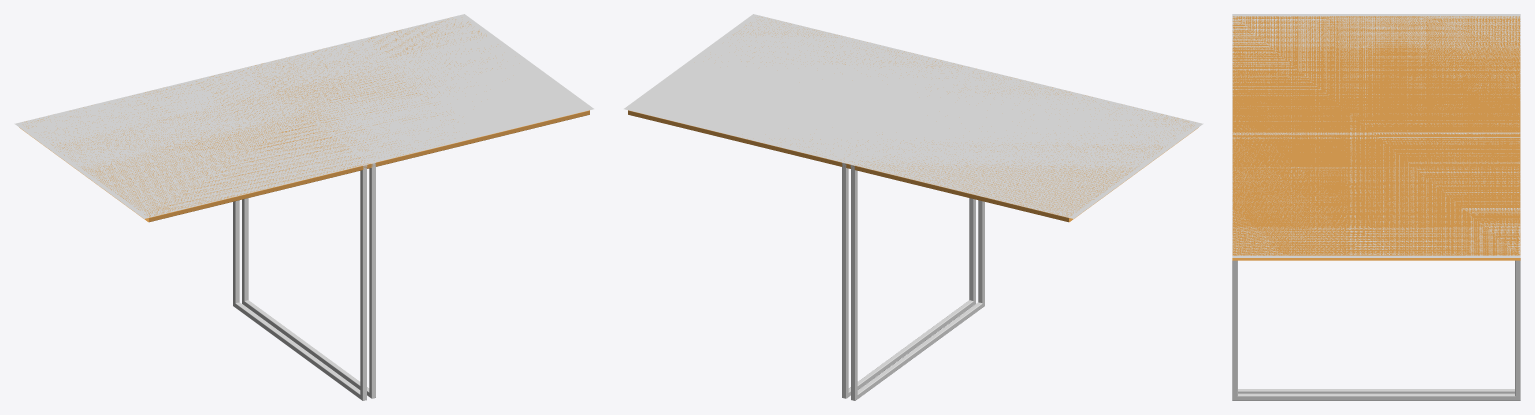
Rendered from iron-frame-table.glb.
The picture shows the model from 3 angles, left to right: view 1: azimuth 30°, elevation 25°; view 2: azimuth 150°, elevation 25°; view 3: azimuth 270°, elevation 25°; orthographic projection. The views are drawn at different scales.
Parts seen in each view (by area): view 1: __TOP__Plane, __X_BOARD__Cube.001, __X_FRAME__Cube.001; view 2: __TOP__Plane, __X_FRAME__Cube.001, __X_BOARD__Cube.001; view 3: __X_BOARD__Cube.001, __TOP__Plane, __X_FRAME__Cube.001.
Part boxes in pixels (x1=…): __TOP__Plane: x1=14, y1=14, x2=593, y2=218; __X_BOARD__Cube.001: x1=19, y1=19, x2=589, y2=222; __X_FRAME__Cube.001: x1=233, y1=68, x2=375, y2=400; __TOP__Plane: x1=624, y1=14, x2=1203, y2=218; __X_FRAME__Cube.001: x1=842, y1=68, x2=984, y2=400; __X_BOARD__Cube.001: x1=628, y1=17, x2=1198, y2=222; __X_BOARD__Cube.001: x1=1232, y1=16, x2=1520, y2=260; __TOP__Plane: x1=1232, y1=14, x2=1520, y2=257; __X_FRAME__Cube.001: x1=1232, y1=132, x2=1520, y2=400.
Size of what is drawn, in the model's own units: 4 by 2 by 2.
